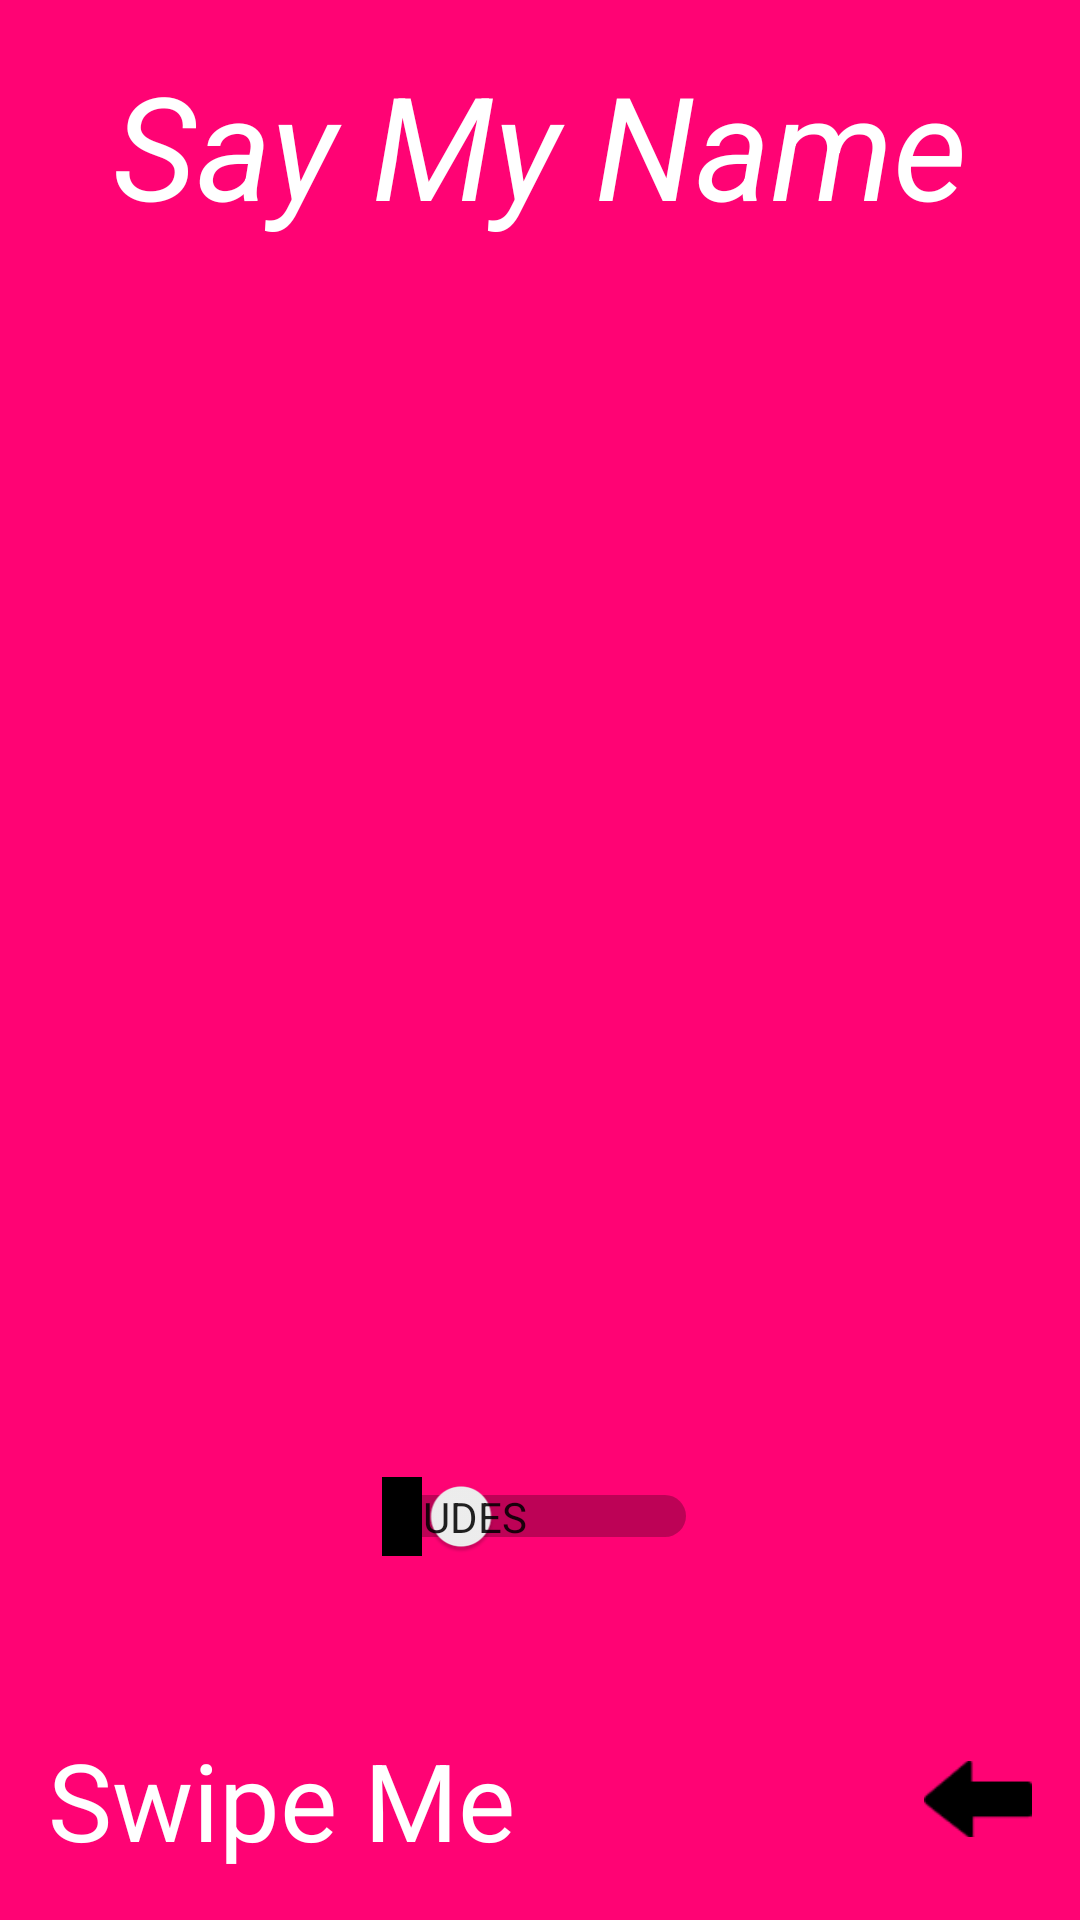

Named icons in this screenshot (1080w x 1920h) and their bounding boxes, (x1, y1, x2, y2):
arrow: (924, 1761, 1032, 1837)
